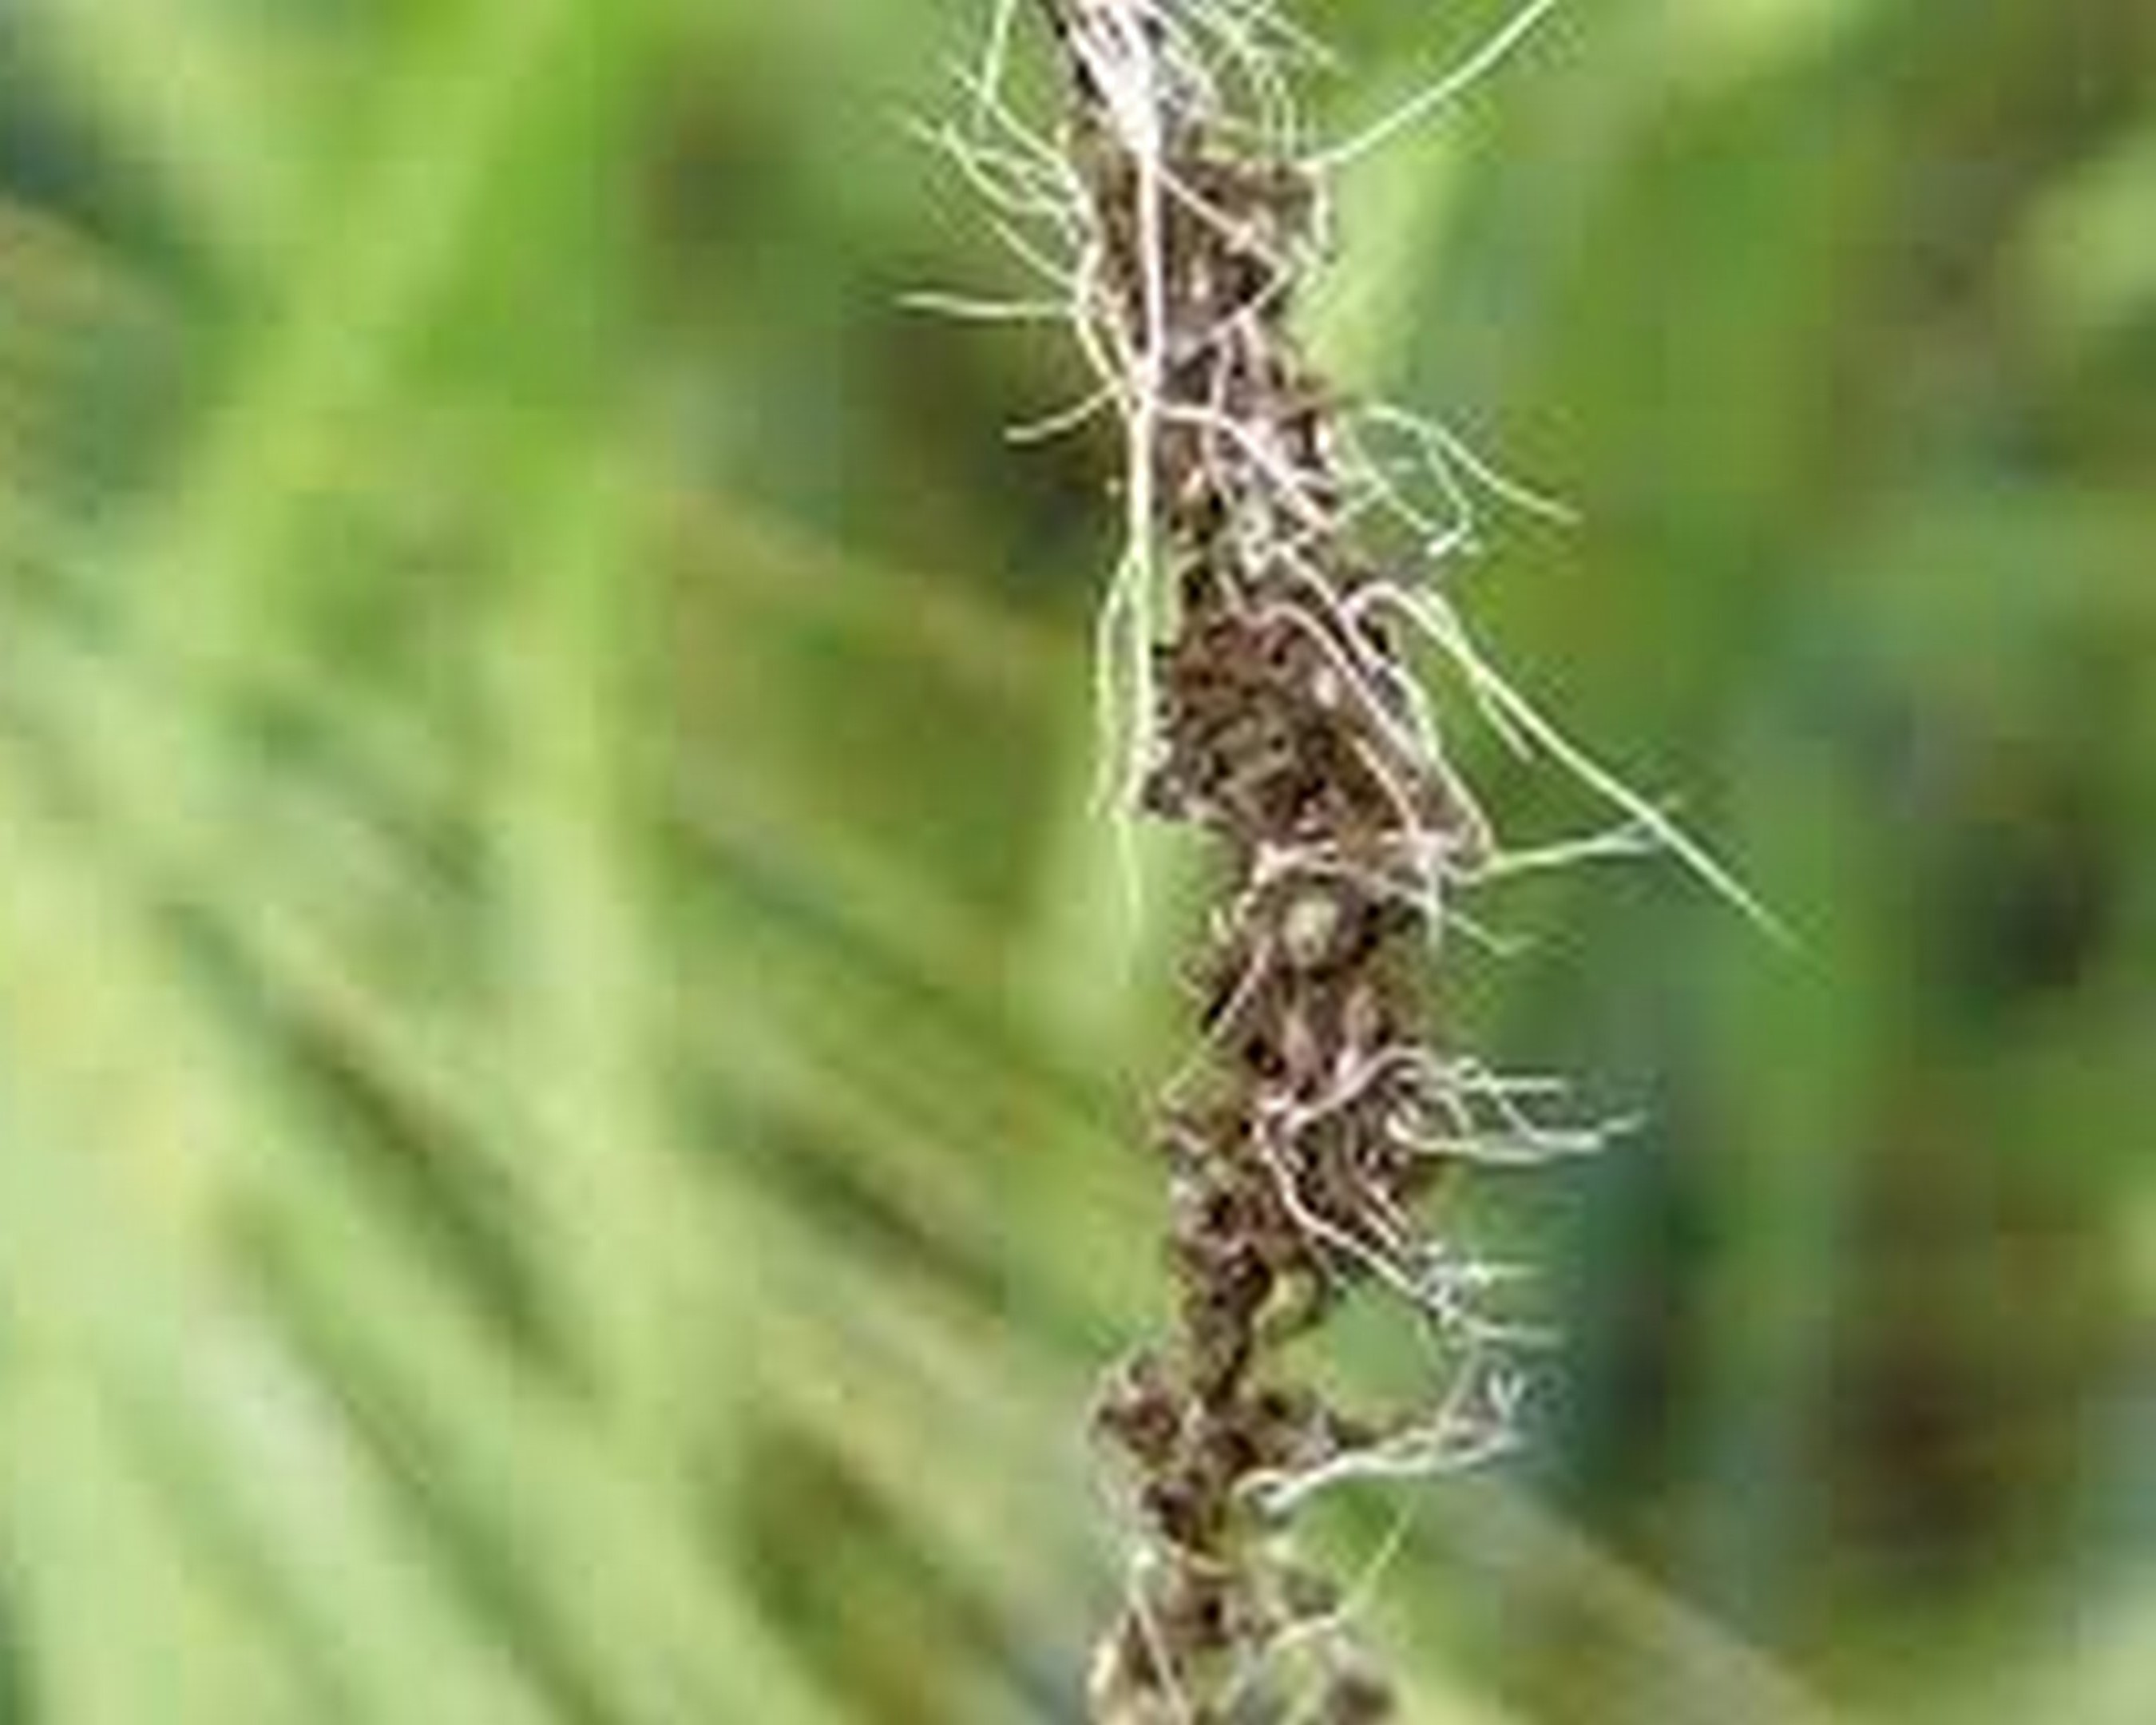Wheat Loose Smut: (998, 113, 1554, 1656)
